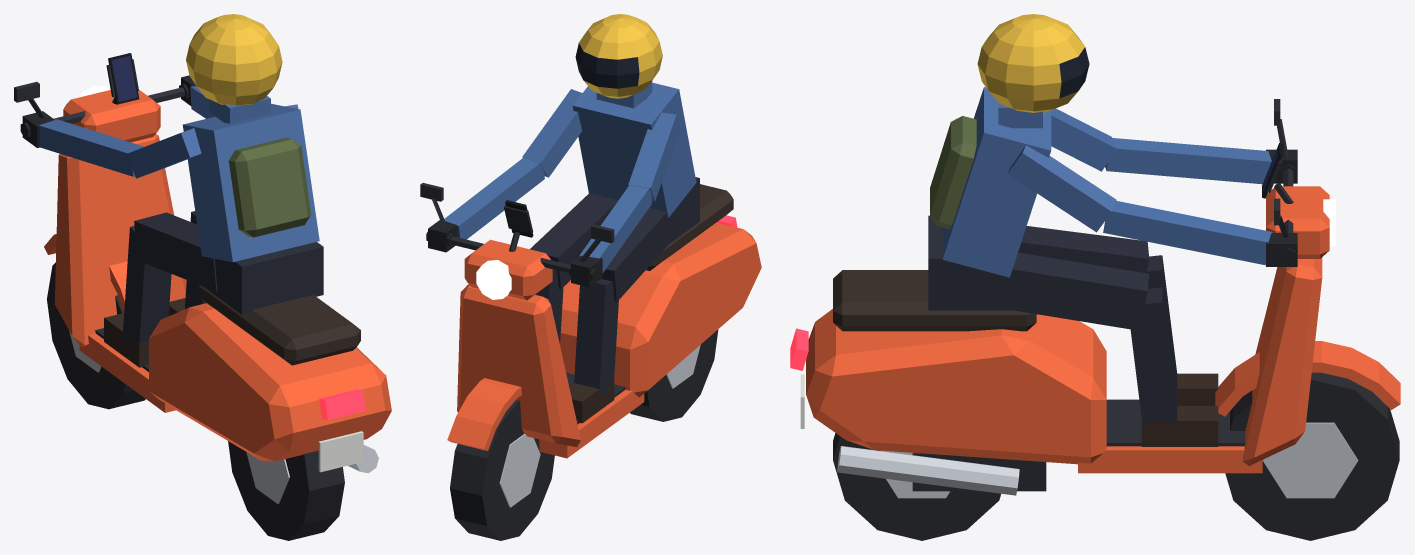
The model's file is rentxe-bike.glb.
3 renders of one model, left to right at view 1: azimuth 30°, elevation 25°; view 2: azimuth 150°, elevation 25°; view 3: azimuth 270°, elevation 25°, orthographic. The views are drawn at different scales.
Visible parts, largest first — view 1: Bike_Body, Wheel_R, Wheel_F, Bike_Screen; view 2: Bike_Body, Wheel_F, Wheel_R; view 3: Bike_Body, Wheel_F, Wheel_R.
Boxes of the visible parts, <box> form: Bike_Body: <box>14,14,391,473</box>; Wheel_R: <box>228,441,344,540</box>; Wheel_F: <box>47,262,145,409</box>; Bike_Screen: <box>112,56,137,101</box>; Bike_Body: <box>420,14,761,458</box>; Wheel_F: <box>450,400,554,540</box>; Wheel_R: <box>630,329,718,421</box>; Bike_Body: <box>790,14,1400,495</box>; Wheel_F: <box>1225,372,1399,540</box>; Wheel_R: <box>833,433,1000,540</box>.
Size of the model in its own units: 0.83 by 1.78 by 1.92.
